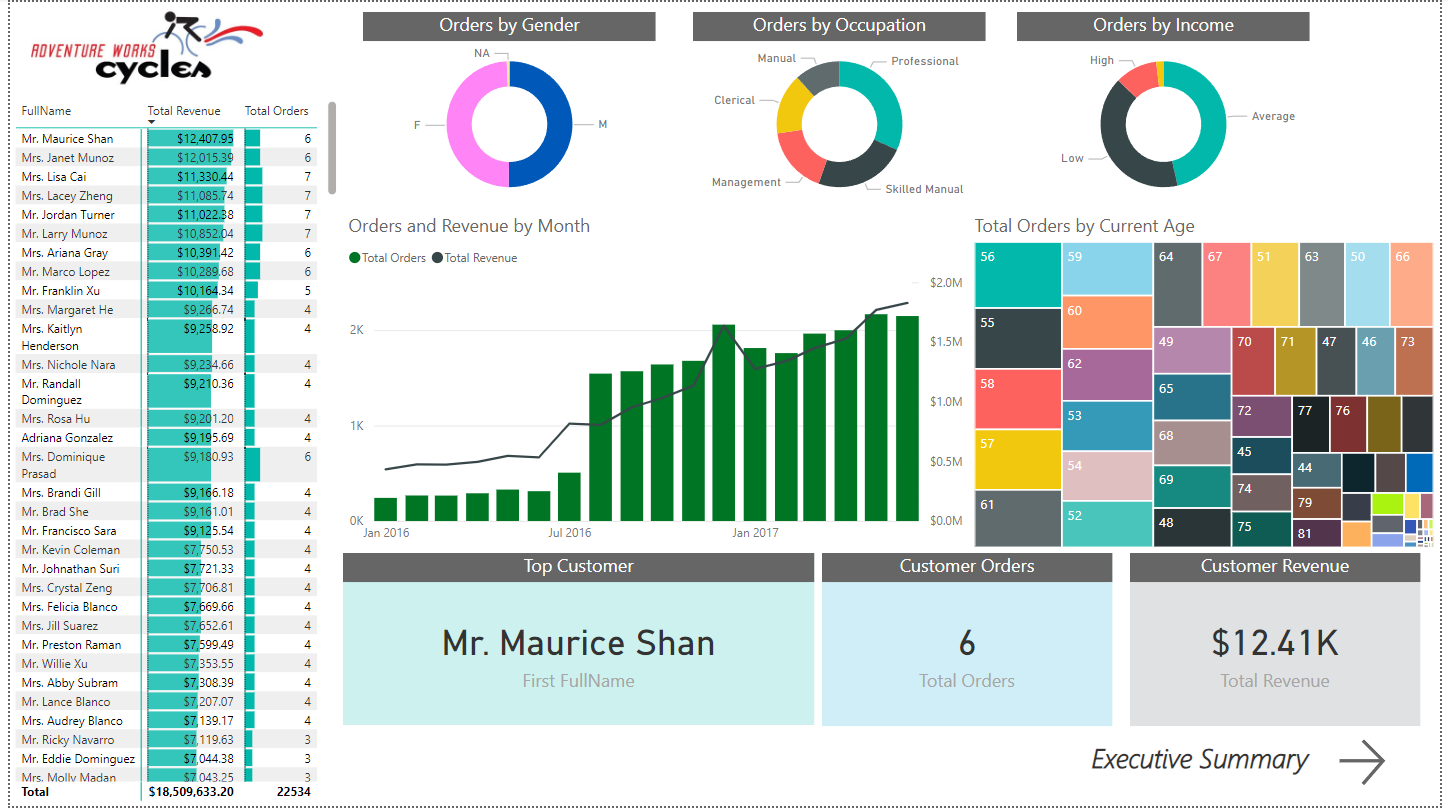

The page's visual inventory and layout, read from the dashboard file:
{"tool":"powerbi","page":{"name":"Customer Detail","canvas":[1280,720],"ordinal":2},"visuals":[{"type":"pivotTable","fields":{"Rows":["AW_Customer_Lookup.FullName"],"Values":["AW_Sales.Total Revenue","AW_Sales.Total Orders"]},"box":[0,83.3,298.2,636.7],"z":0},{"type":"donutChart","title":"Orders by Gender","fields":{"Y":["AW_Sales.Total Orders"],"Category":["AW_Customer_Lookup.Gender"]},"box":[316.1,9,262.4,180],"z":1000},{"type":"donutChart","title":"Orders by Income","fields":{"Y":["AW_Sales.Total Orders"],"Category":["AW_Customer_Lookup.IncomeLevel"]},"box":[901.8,9,262.4,180],"z":2000},{"type":"donutChart","title":"Orders by Occupation","fields":{"Y":["AW_Sales.Total Orders"],"Category":["AW_Customer_Lookup.Occupation"]},"box":[611.6,9,262.4,180],"z":3000},{"type":"lineStackedColumnComboChart","title":"Orders and Revenue by Month","fields":{"Y":["AW_Sales.Total Orders"],"Category":["AW_Calendar_Lookup.Start of Month"],"Y2":["AW_Sales.Total Revenue"]},"box":[298.2,189,560.6,304.5],"z":4000},{"type":"treemap","fields":{"Values":["AW_Sales.Total Orders"],"Group":["AW_Customer_Lookup.Current Age"]},"box":[858.8,189,420.9,304.5],"z":5000},{"type":"card","title":"Top Customer","fields":{"Values":["AW_Customer_Lookup.FullName"]},"box":[298.2,493.4,421.8,154],"z":6000},{"type":"card","title":"Customer Orders","fields":{"Values":["AW_Sales.Total Orders"]},"box":[727.5,493.1,259.7,154.7],"z":7000},{"type":"card","title":"Customer Revenue","fields":{"Values":["AW_Sales.Total Revenue"]},"box":[1002.8,493.1,259.7,154.7],"z":8000},{"type":"textbox","box":[963.9,654.6,212,52.5],"z":9000},{"type":"actionButton","box":[1183.7,654.6,72,52.5],"z":10000},{"type":"image","box":[0,0,248.1,83.3],"z":11000}]}

Visuals, with their boxes in screenshot pixels (x1, y1, x2, y2), scaled from the page's 1280x720 canvas onto the 1448x808 screenshot:
pivotTable - AW_Customer_Lookup.FullName x AW_Sales.Total Revenue: bbox=[0, 93, 337, 807]
"Orders by Gender" donutChart: bbox=[358, 10, 654, 212]
"Orders by Income" donutChart: bbox=[1020, 10, 1317, 212]
"Orders by Occupation" donutChart: bbox=[692, 10, 989, 212]
"Orders and Revenue by Month" lineStackedColumnComboChart: bbox=[337, 212, 972, 554]
treemap - AW_Sales.Total Orders x AW_Customer_Lookup.Current Age: bbox=[972, 212, 1447, 554]
"Top Customer" card: bbox=[337, 554, 815, 727]
"Customer Orders" card: bbox=[823, 553, 1117, 727]
"Customer Revenue" card: bbox=[1134, 553, 1428, 727]
textbox: bbox=[1090, 735, 1330, 794]
actionButton: bbox=[1339, 735, 1421, 794]
image: bbox=[0, 0, 281, 93]
